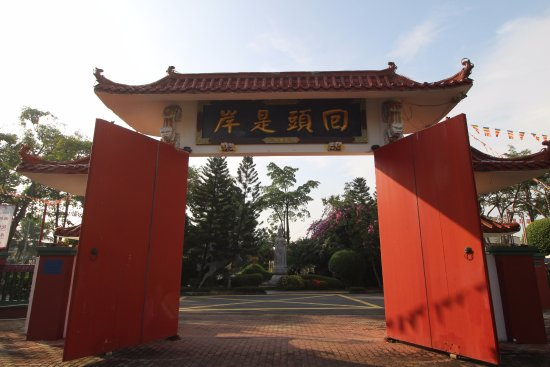Buddhist Temple: (79, 56, 471, 155)
